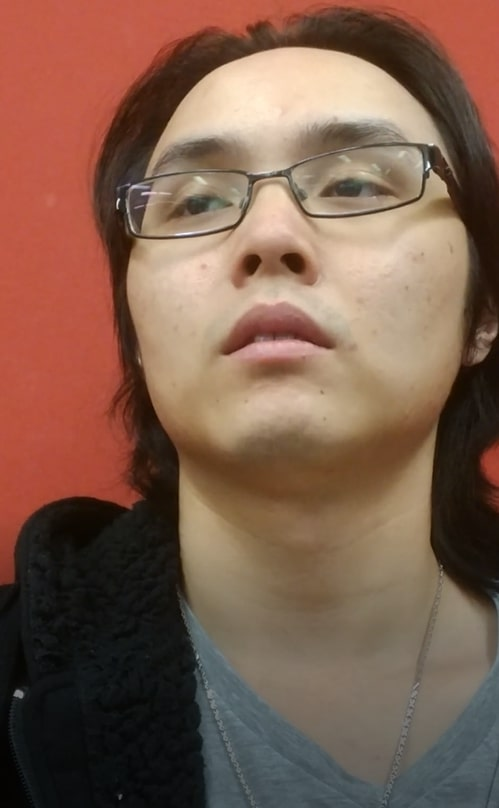Not Sleeping: (140, 163, 418, 243)
